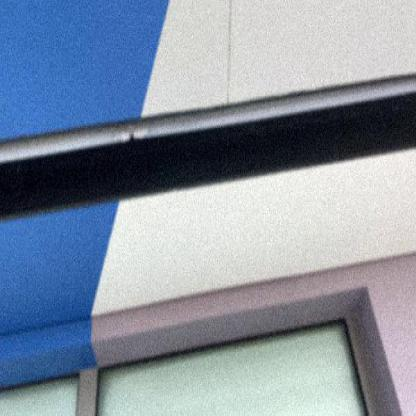light_off: (1, 61, 415, 181)
